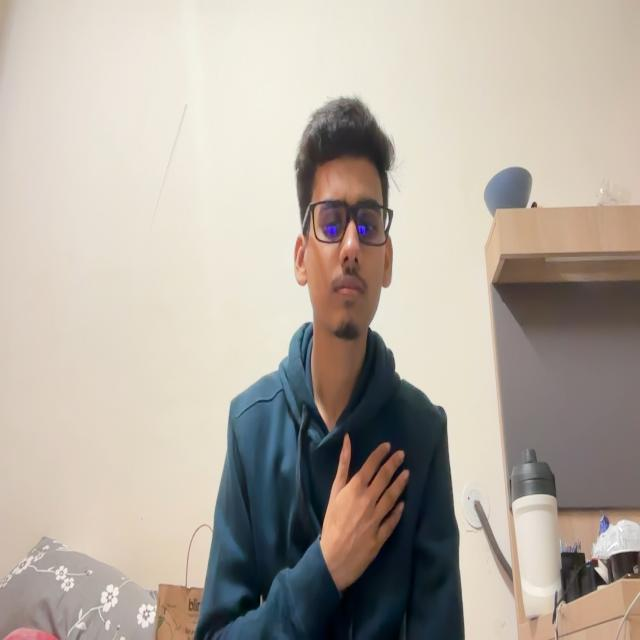Please: (315, 426, 429, 608)
